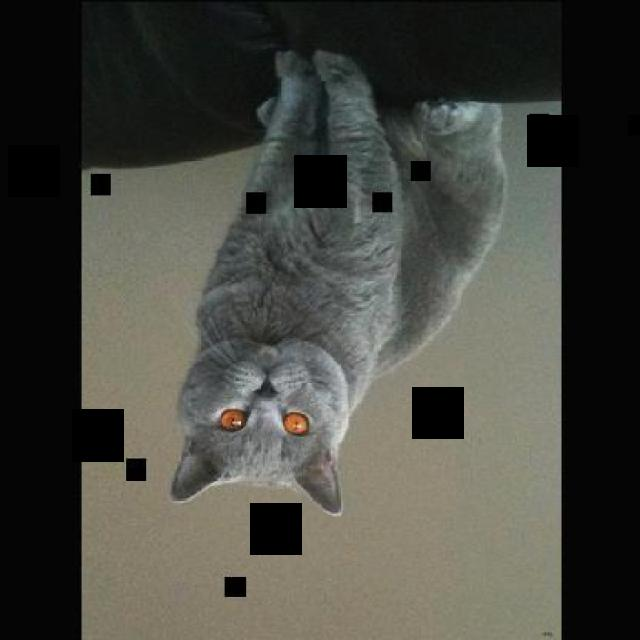unauthorized: (169, 45, 508, 517)
